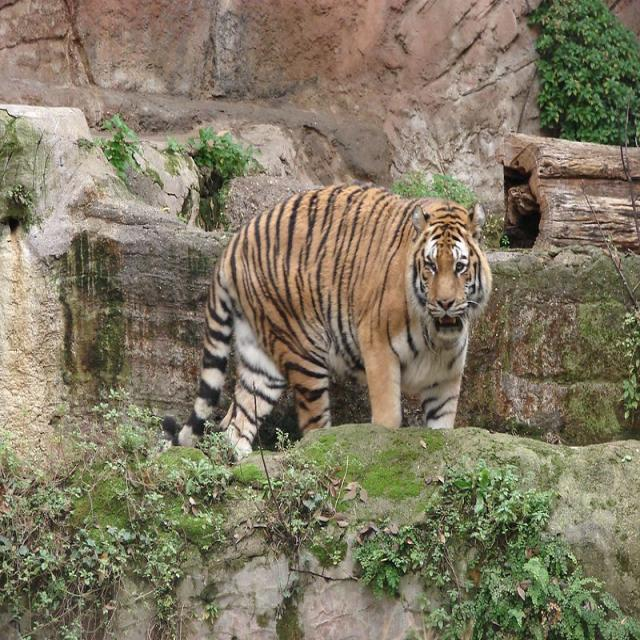Tiger: (159, 174, 495, 463)
